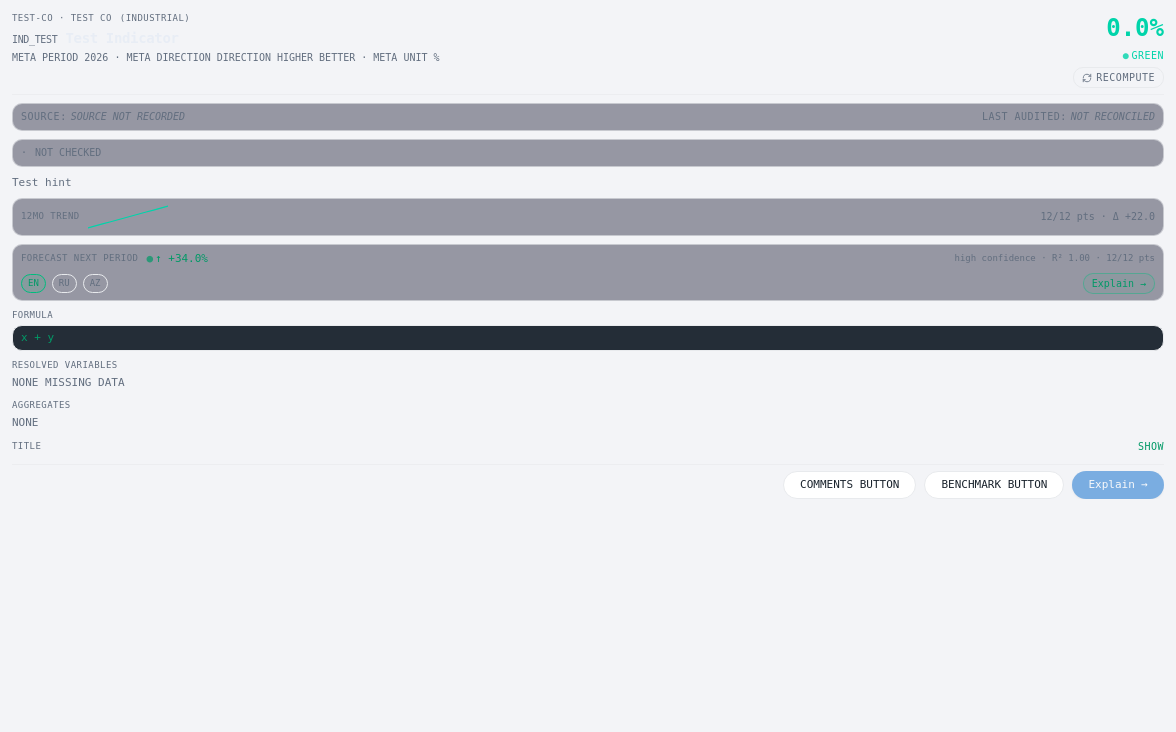
Test: IndicatorDetail forecast explain panel (Phase C2 v2) › clicking Explain → POST /forecast/explain → narrative + drivers + risks render
Click the button with test id "forecast-explain-button" at (1119, 284), box [1083,273,1155,294]
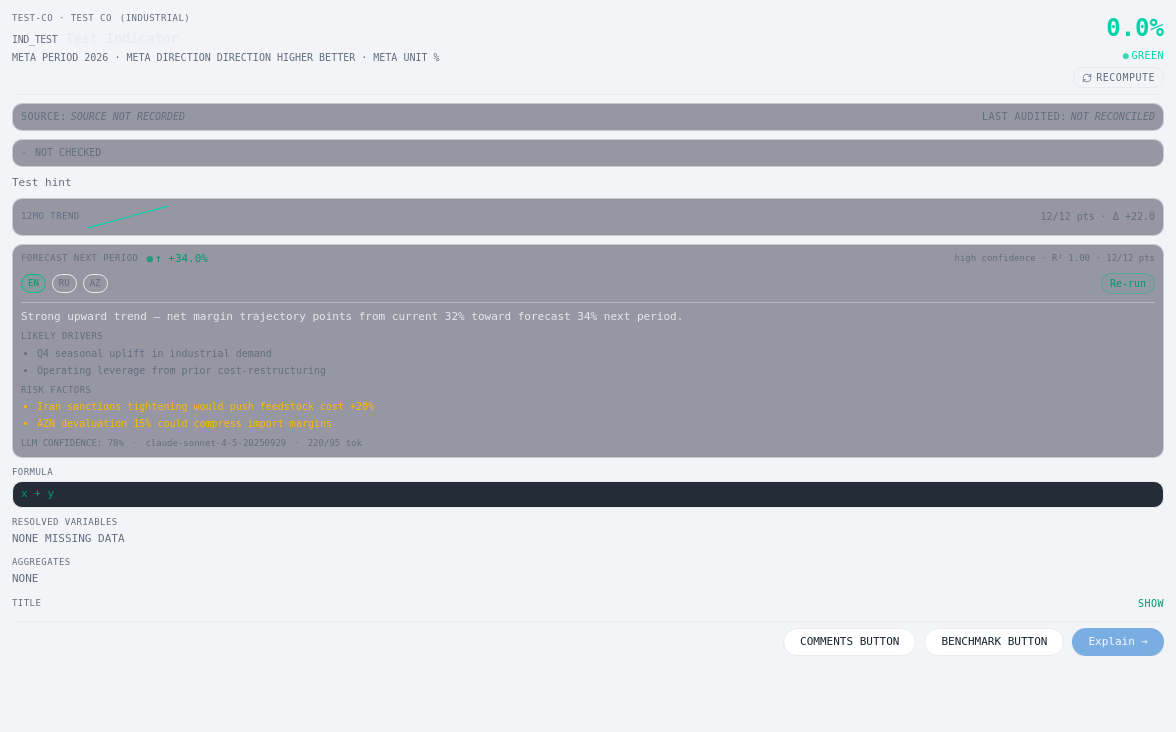
Now the element with test id "forecast-narrative" shows "Strong upward trend", box [21,310,683,323]
Now the element with test id "forecast-narrative" shows "Q4 seasonal uplift", box [37,348,272,359]
Now the element with test id "forecast-narrative" shows "Iran sanctions", box [37,401,374,412]
